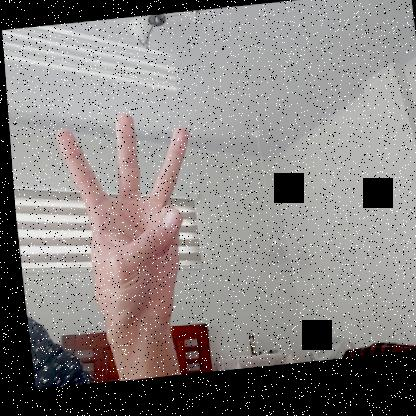W: (50, 106, 208, 343)
